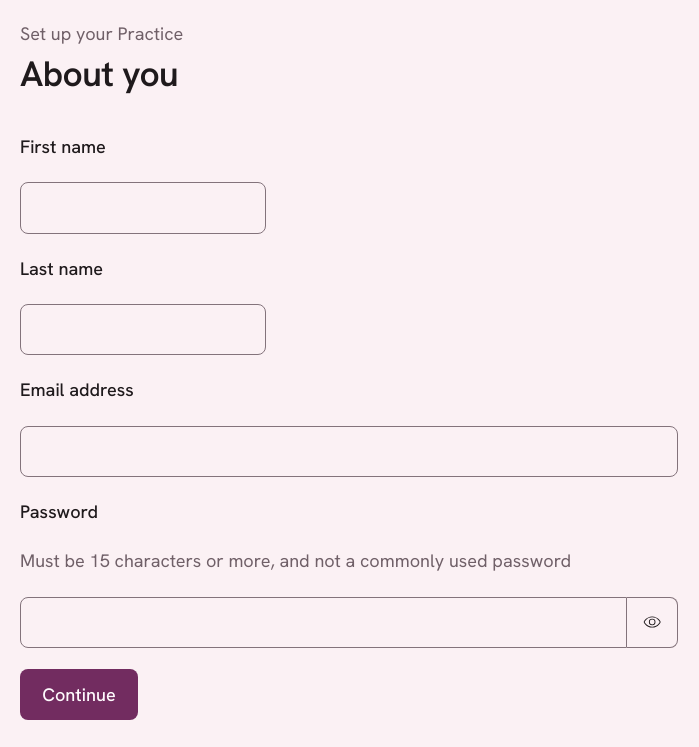
Test: the first page: about you › refuses an empty Continue, every reason in the order of the boxes
(page scrolled)
Click the button "Continue": click(79, 695) top-left (20, 669), bottom-right (138, 720)
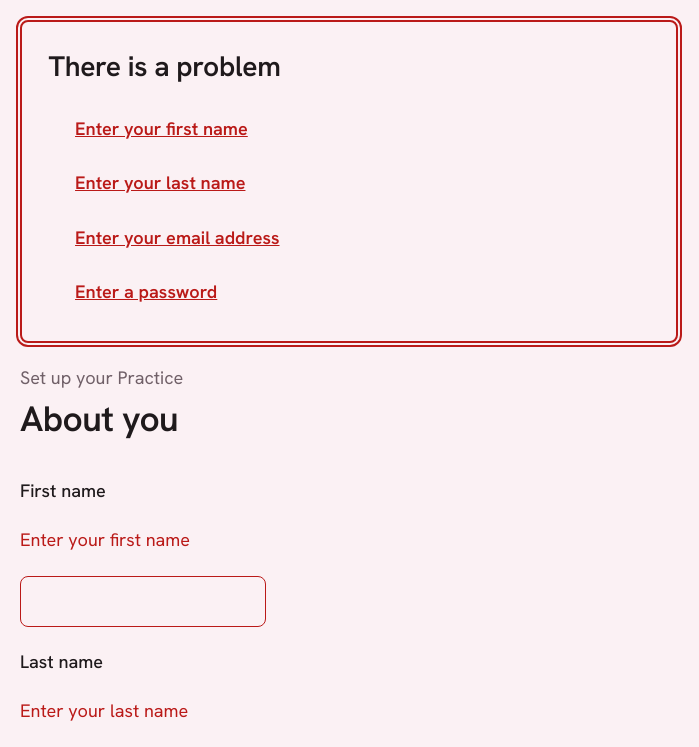
Result: the link "Enter your first name" is shown at top-left (75, 117), bottom-right (248, 140)
